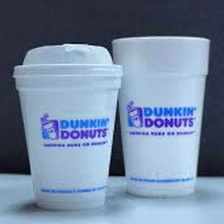paper_cup: (7, 39, 126, 216), (107, 28, 216, 201)
